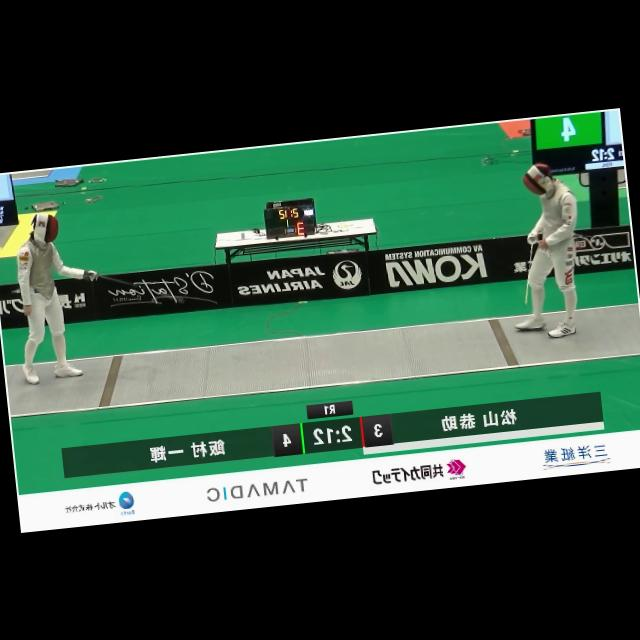blade: (86, 259, 187, 315), (511, 233, 549, 307)
